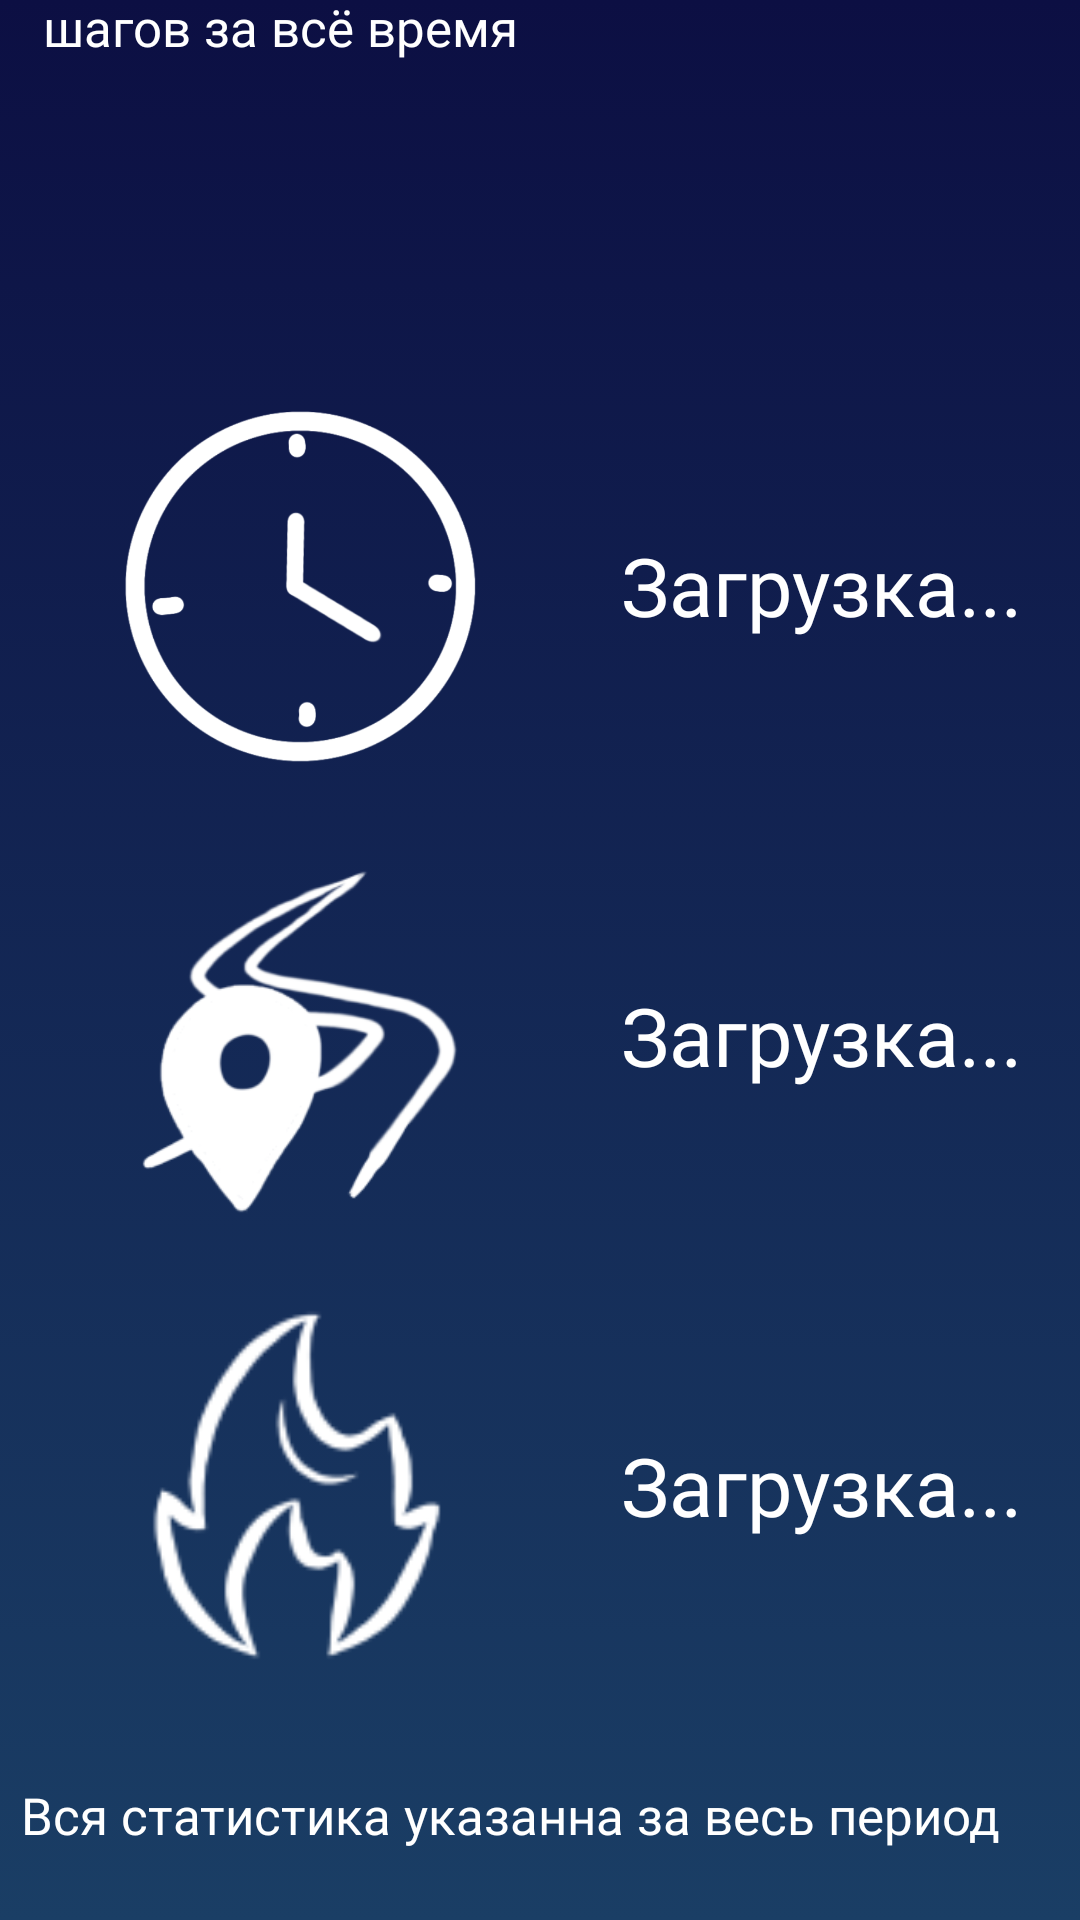

Icon click points for this 1080px x 1920px phone screenshot, format (x=x, y=y):
calories: (x=297, y=1485)
distation: (x=300, y=1042)
time: (x=300, y=586)
